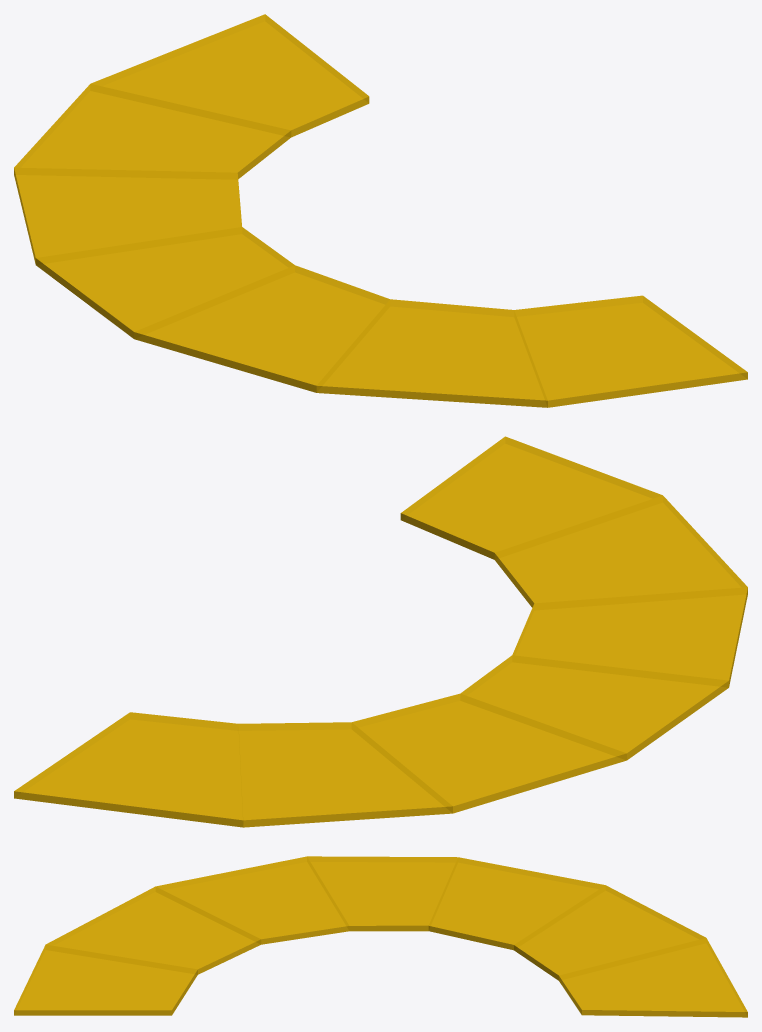
Rendered from SM_Bld_Dock_Round_05_Collision.fbx.
The picture shows the model from 3 angles, top to bottom: view 1: azimuth 30°, elevation 25°; view 2: azimuth 150°, elevation 25°; view 3: azimuth 270°, elevation 25°; orthographic projection. The views are drawn at different scales.
Visible parts, largest first — view 1: SM_Bld_Dock_Round_05_Collision; view 2: SM_Bld_Dock_Round_05_Collision; view 3: SM_Bld_Dock_Round_05_Collision.
Part boxes in pixels (bbox=[...]): SM_Bld_Dock_Round_05_Collision: bbox=[14, 14, 747, 407]; SM_Bld_Dock_Round_05_Collision: bbox=[14, 436, 747, 827]; SM_Bld_Dock_Round_05_Collision: bbox=[14, 856, 747, 1017].
Bounding box in the file's own units: 621 × 10.12 × 1237.
